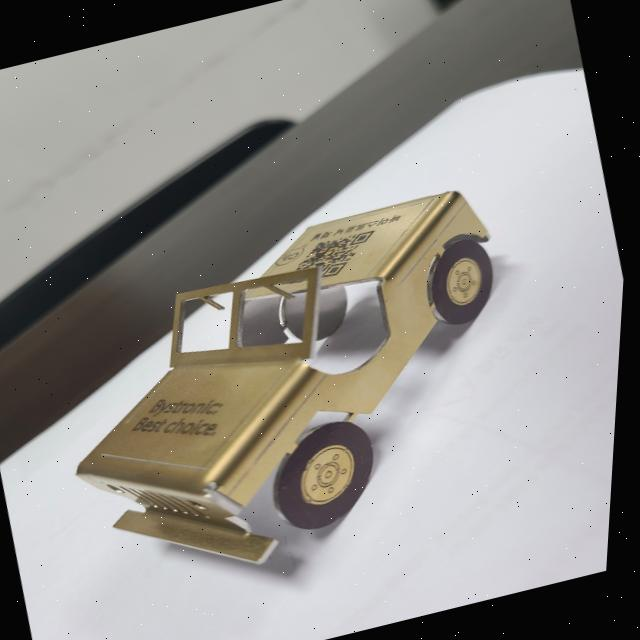tire: (267, 414, 396, 536), (422, 233, 510, 329)
